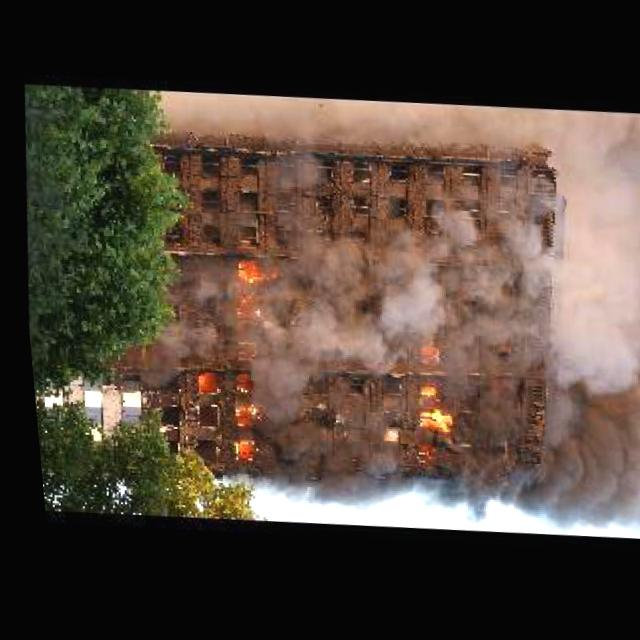Fire: (400, 381, 451, 476), (217, 398, 262, 468), (228, 258, 273, 291)
Smoke: (242, 94, 640, 383), (437, 370, 640, 533), (243, 359, 402, 503), (117, 243, 225, 383)
